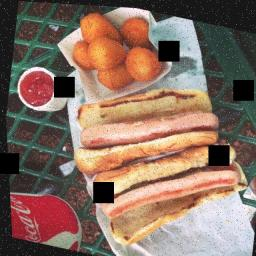hotdog: (97, 137, 244, 244), (76, 82, 224, 170)
